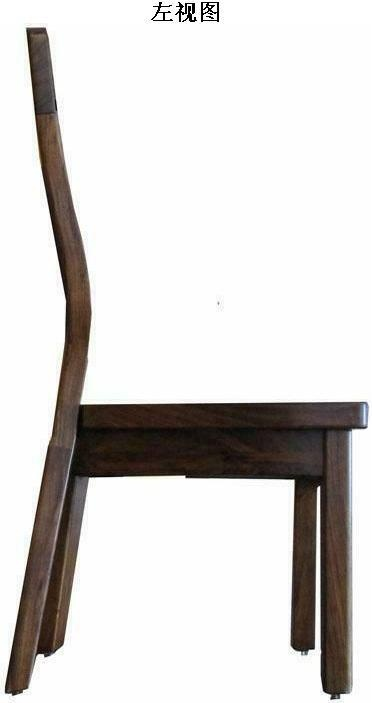obstacle: (5, 28, 367, 696)
